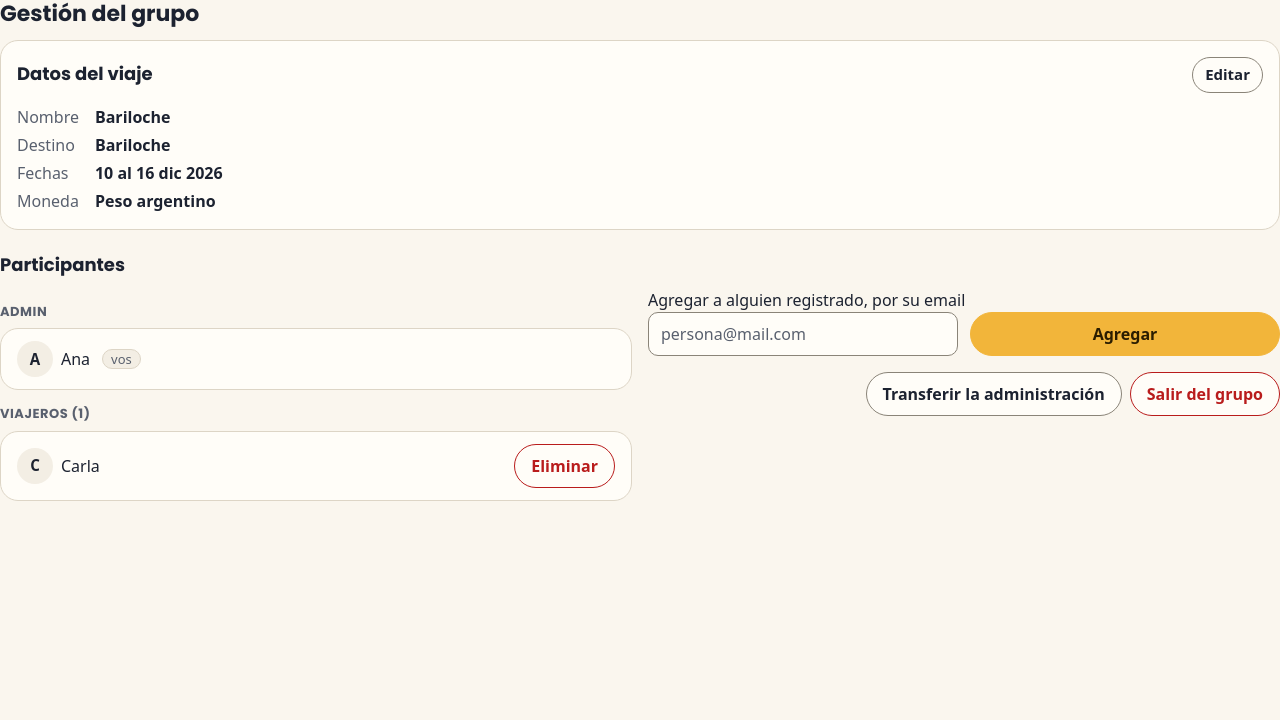
ParticipantesVista › si la persona ya no estaba en el grupo, lo avisa y actualiza la lista
Click the button with aria-label "Eliminar a Carla" at (565,466), box [514, 444, 615, 488]
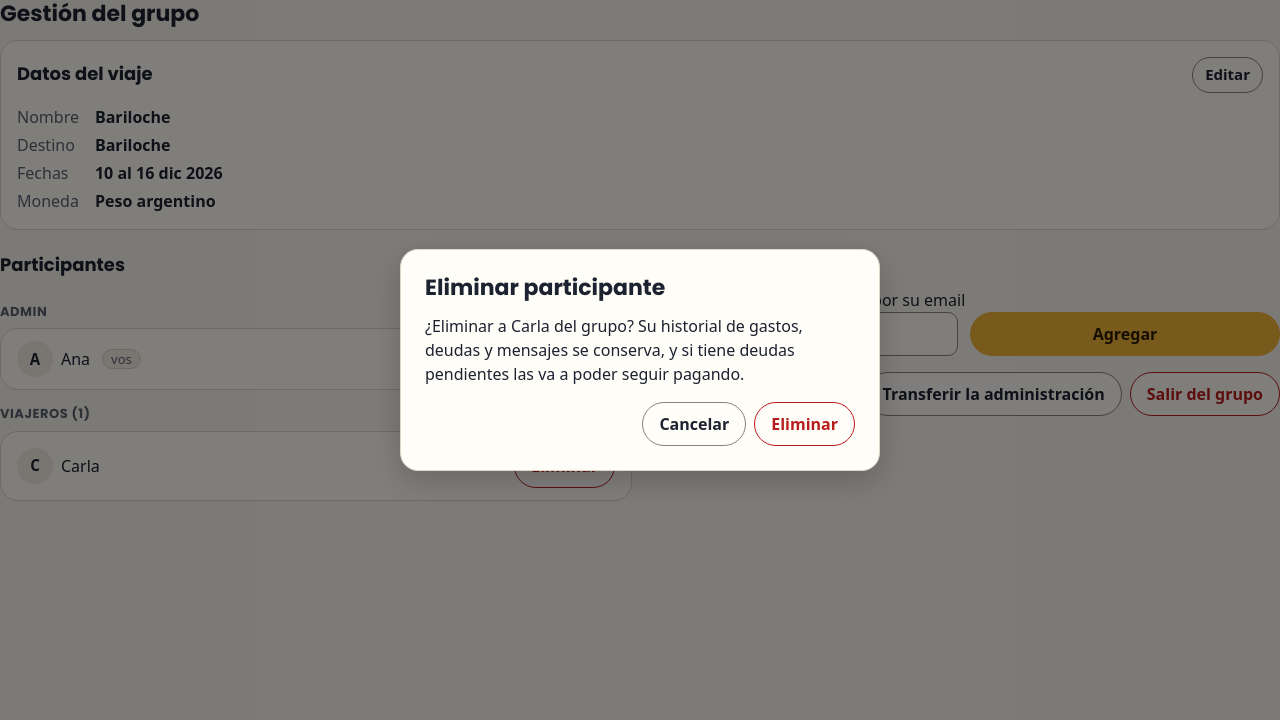
Click the button "Eliminar" at (805,424), box [754, 402, 855, 446]
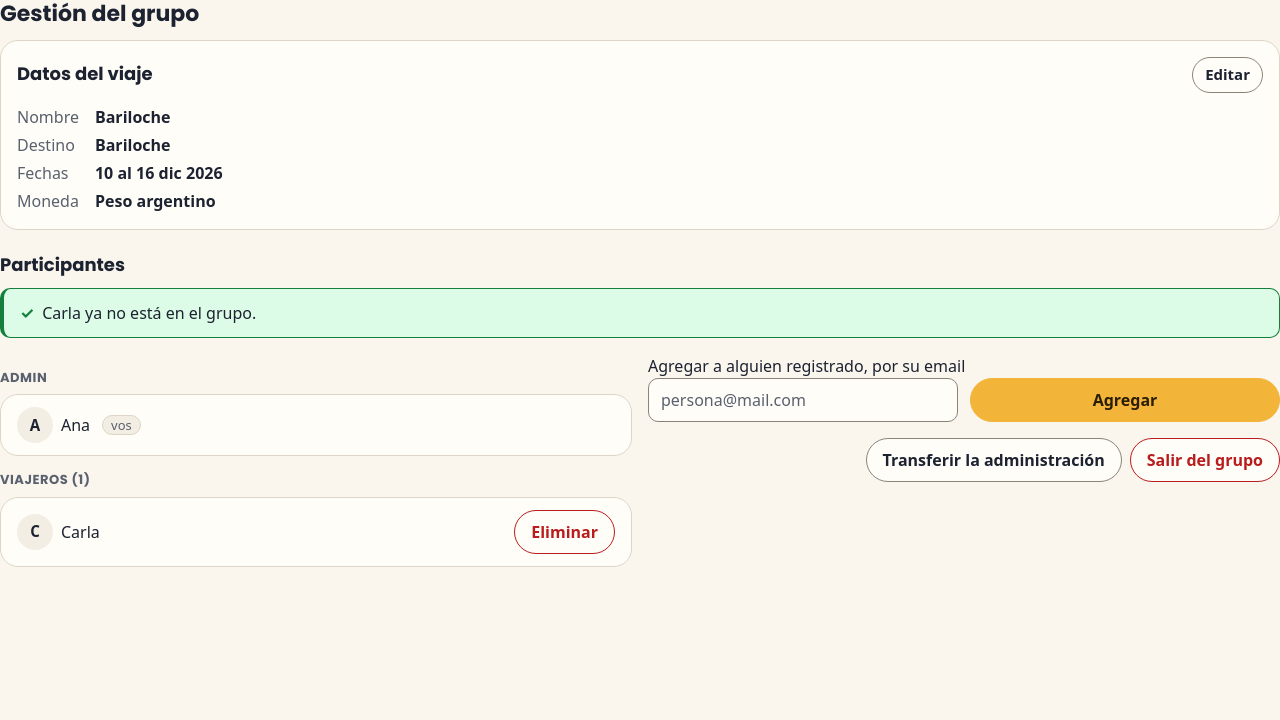
Result: the text "Carla ya no está en el grupo." is shown at [42, 302, 256, 324]
